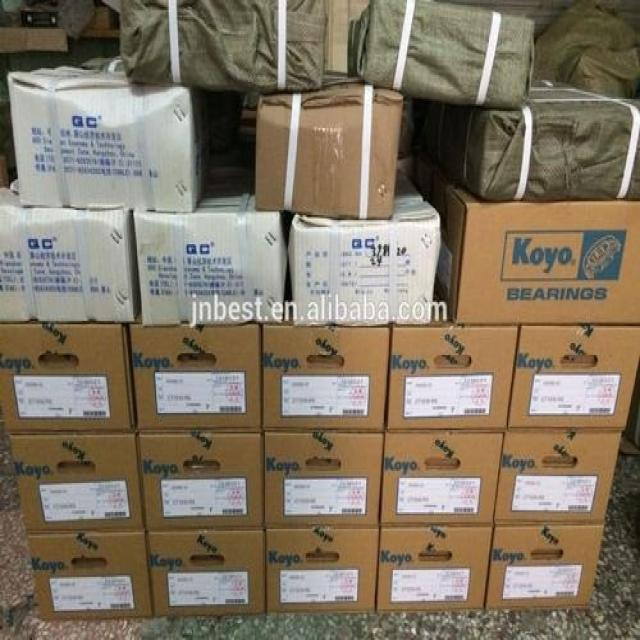box: (415, 148, 639, 324), (8, 65, 212, 213), (287, 160, 443, 328), (416, 84, 640, 200), (132, 176, 287, 326), (346, 0, 536, 109), (255, 80, 404, 217), (0, 179, 140, 323), (385, 292, 520, 433), (120, 0, 326, 89), (125, 311, 264, 433), (0, 323, 137, 433), (8, 428, 146, 534), (262, 323, 392, 433), (506, 323, 639, 428), (494, 427, 625, 526), (136, 428, 264, 529), (379, 432, 503, 527), (27, 529, 154, 621), (262, 433, 385, 527), (486, 522, 607, 609), (146, 527, 266, 614), (376, 527, 494, 613), (265, 527, 380, 614)
